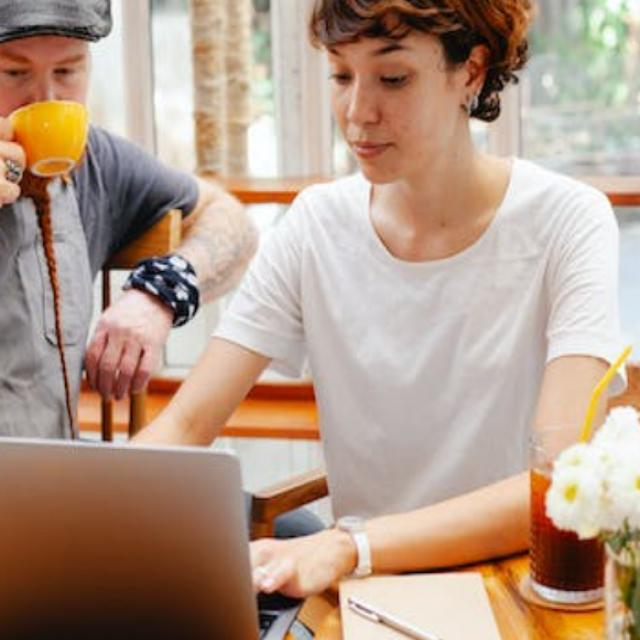Watch: (338, 514, 379, 584)
